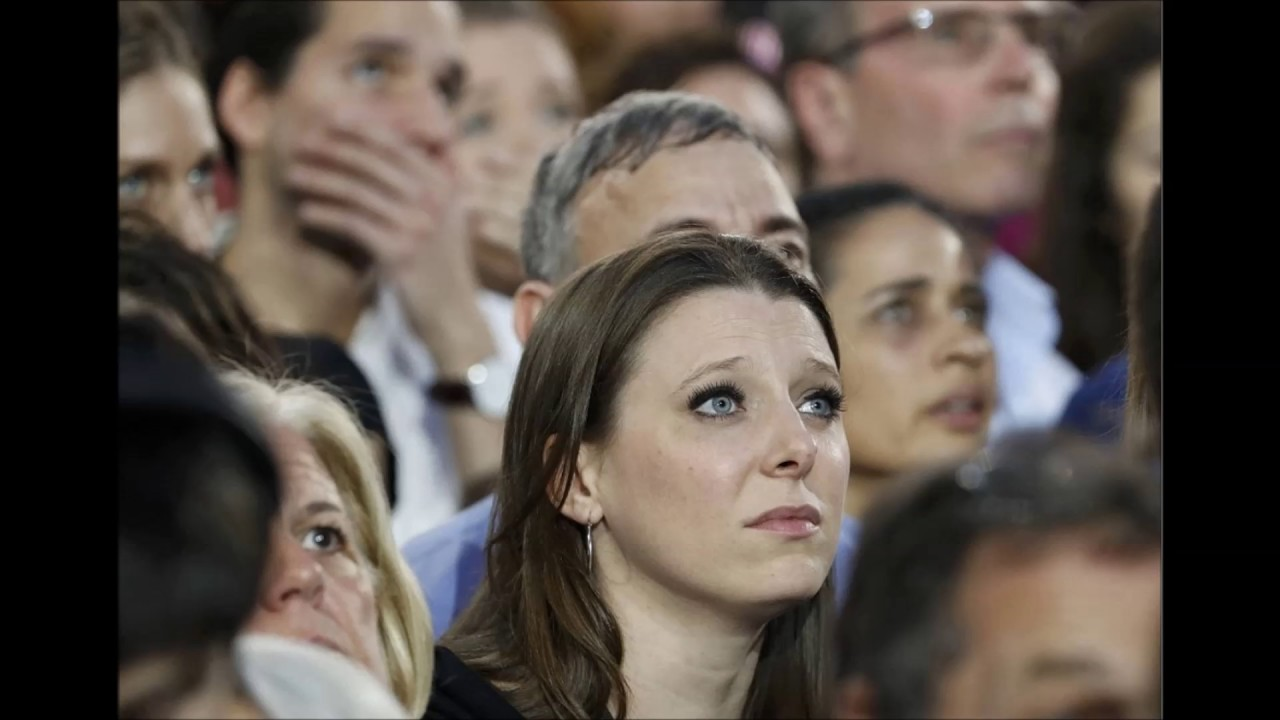sad: (617, 294, 860, 602)
